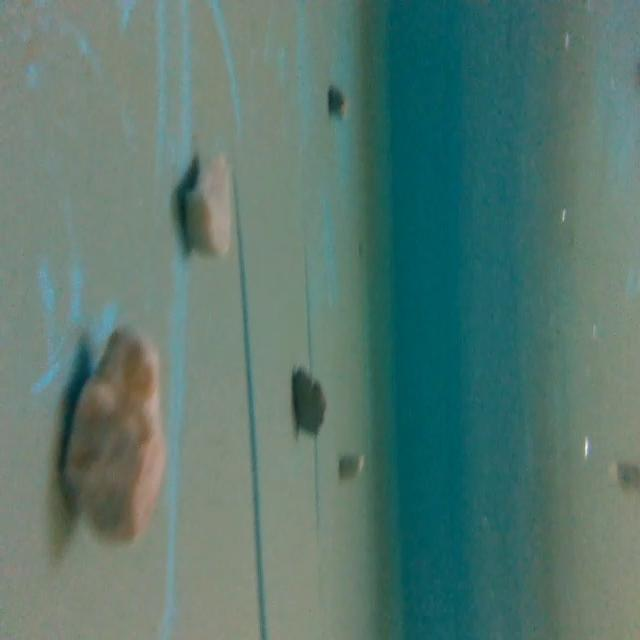rock: (57, 323, 172, 559), (179, 140, 236, 262), (290, 358, 330, 439), (323, 84, 351, 118), (338, 453, 368, 479)
